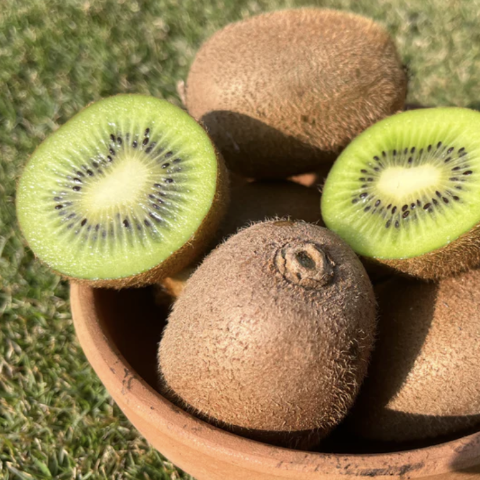kiwi: (149, 182, 390, 456), (162, 3, 413, 185)
